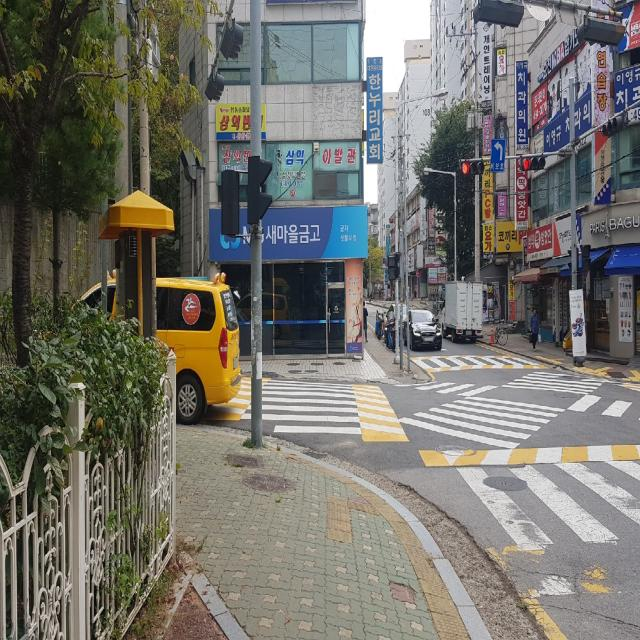횡단보도: (399, 356, 640, 548), (240, 378, 362, 436)
